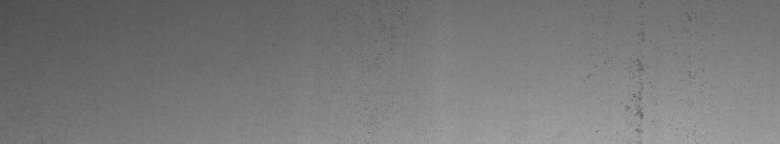ib: (587, 12, 704, 136)
